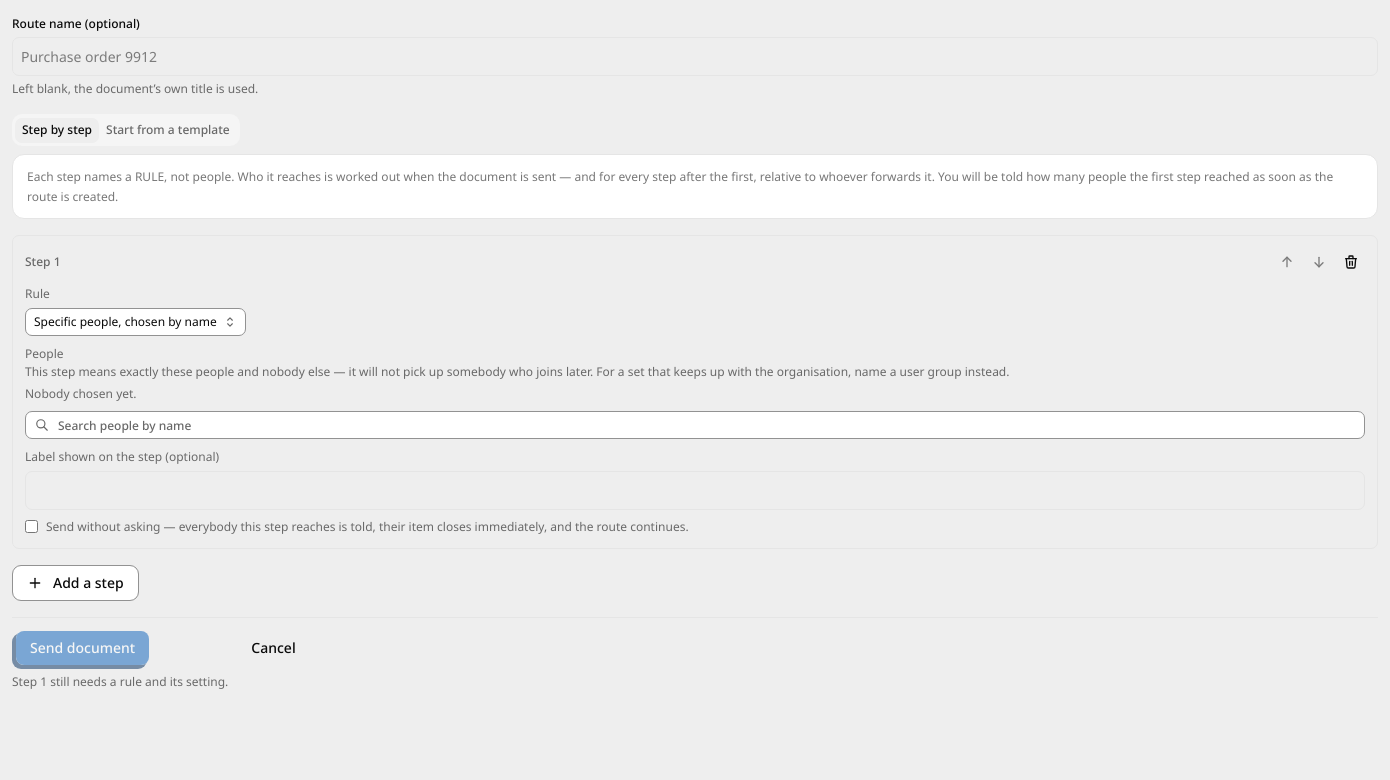
Scenario: RouteComposer — naming a user group › explains why groups cannot be named rather than showing an empty picker
The image size is (1390, 780).
Click the dropdown named "Rule" at {"x": 135, "y": 322}, box [25,308,246,336]
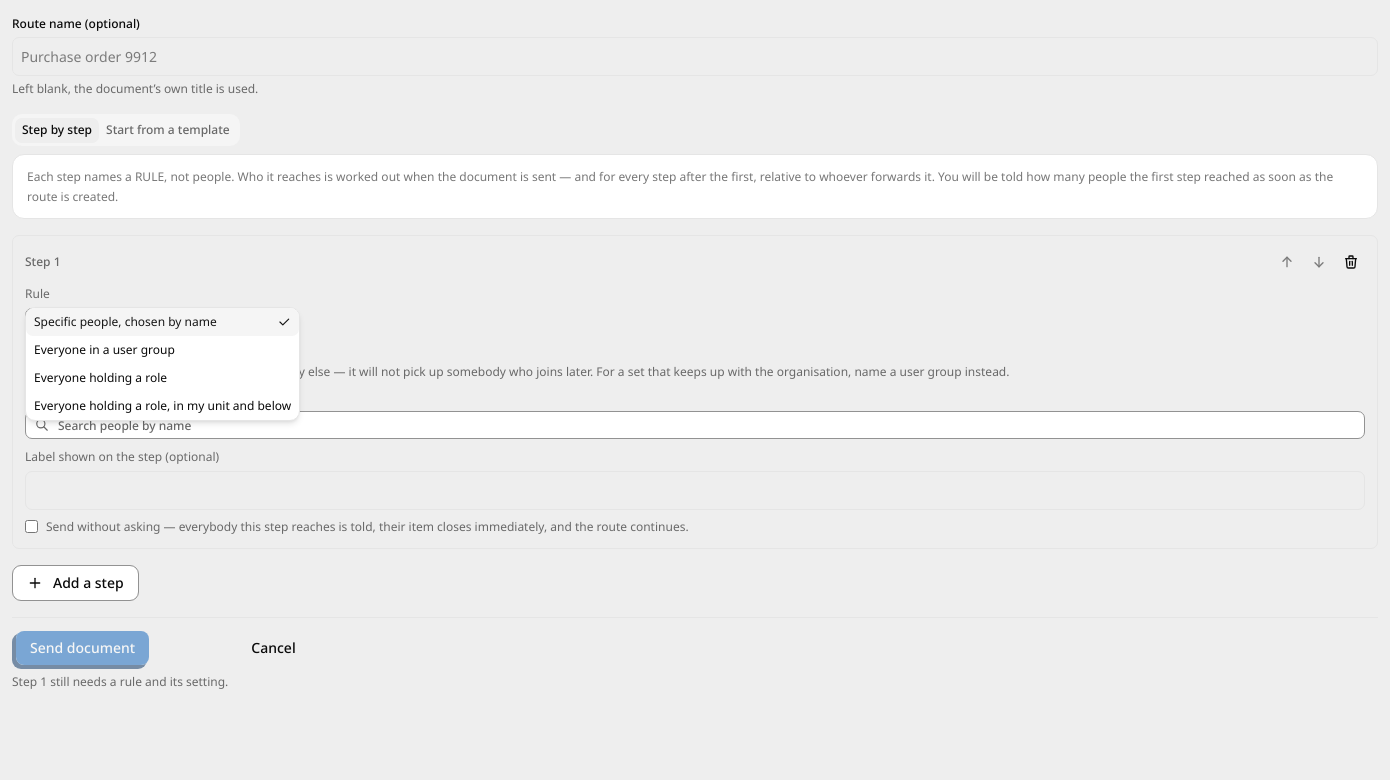
Click the option "Everyone in a user group" at {"x": 104, "y": 349}, box [34,341,175,358]
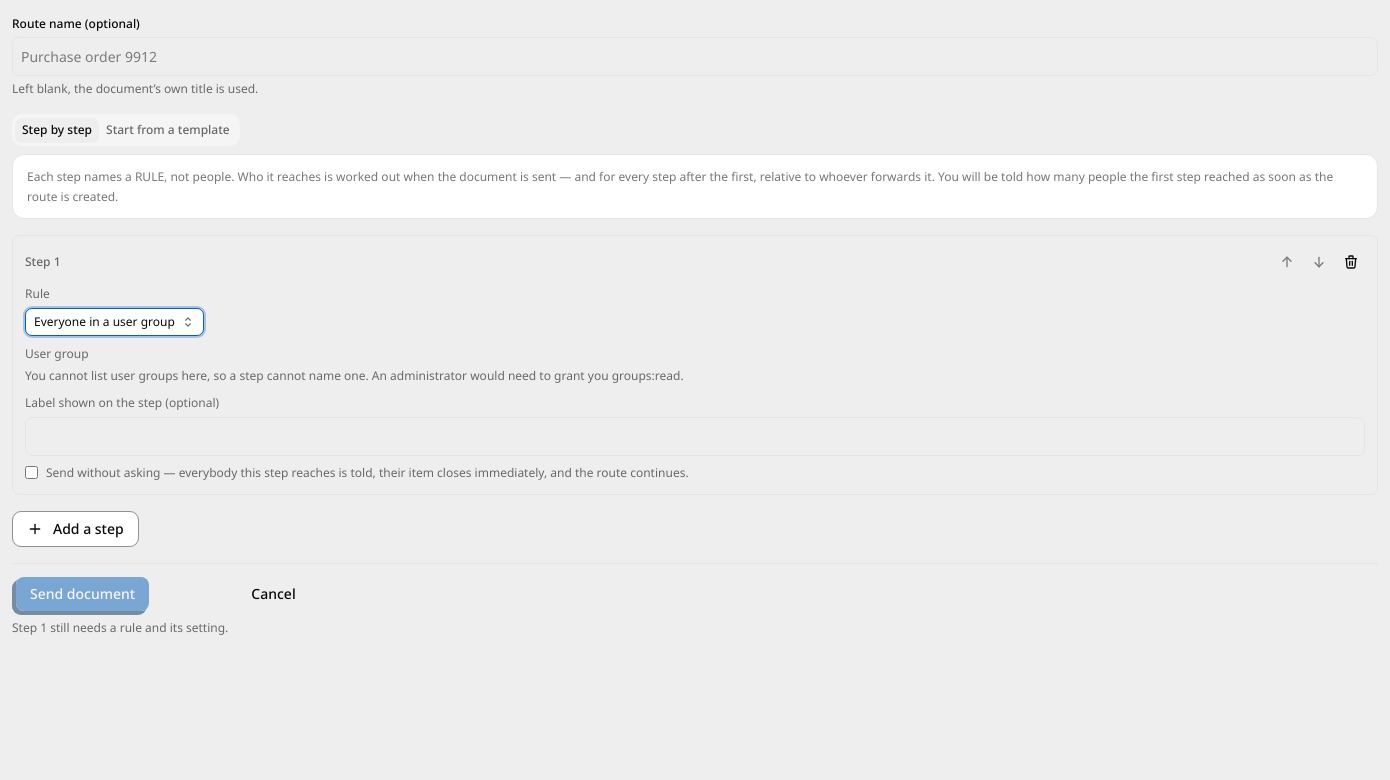
Check: the text "grant you groups:read" is shown, box [25,367,684,384]
